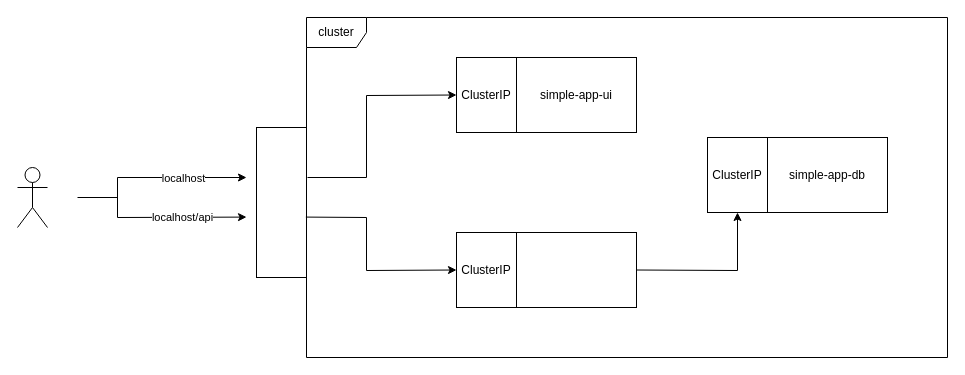
The diagram is 965 pixels wide and 375 high, and some of its shapes have lost their labels. The shapes that lost their labels are listed below. From the top down, each one's centre as x and y in pixels, then its label:
At point 32,197: "Actor".
At point 281,202: "Ingress".
At point 576,270: "simple-app-server".
